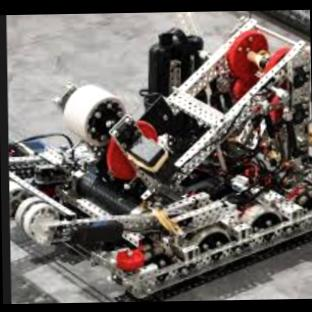Robot: (8, 16, 312, 298)
